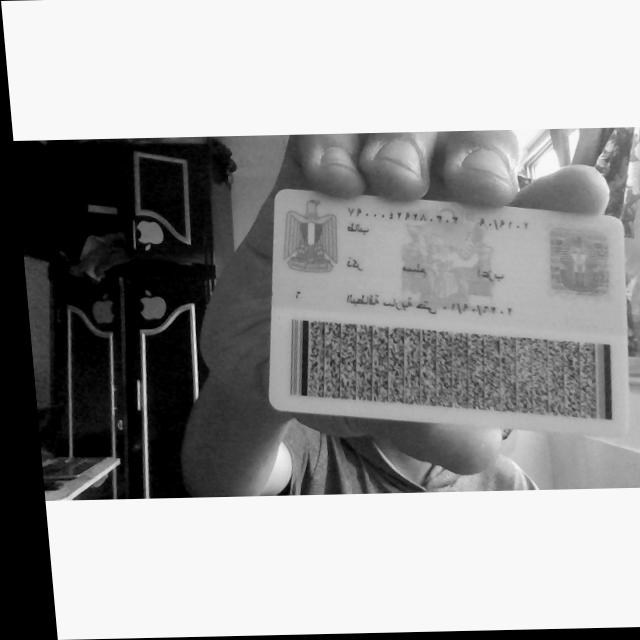id_card: (268, 188, 628, 435)
